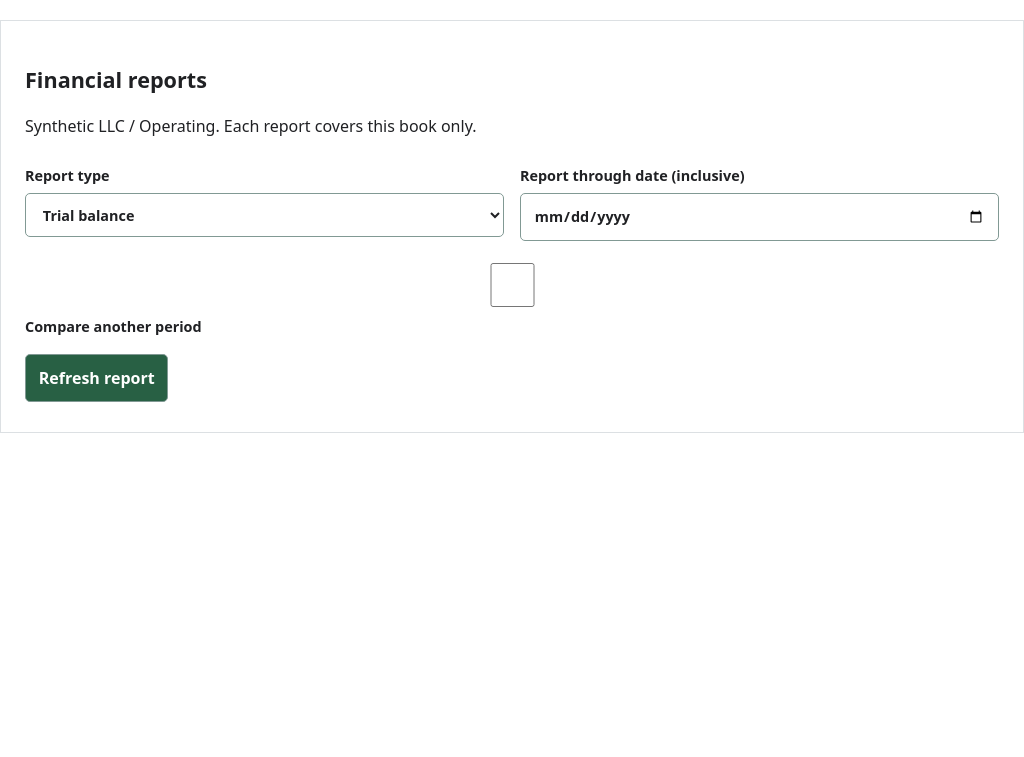
Test case: scoped report actions › ignores a late export when filters changed
Type "2026-01-31" into the date field labelled "Report through date (inclusive)". click: point(760, 217)
box: [520,193,999,240]
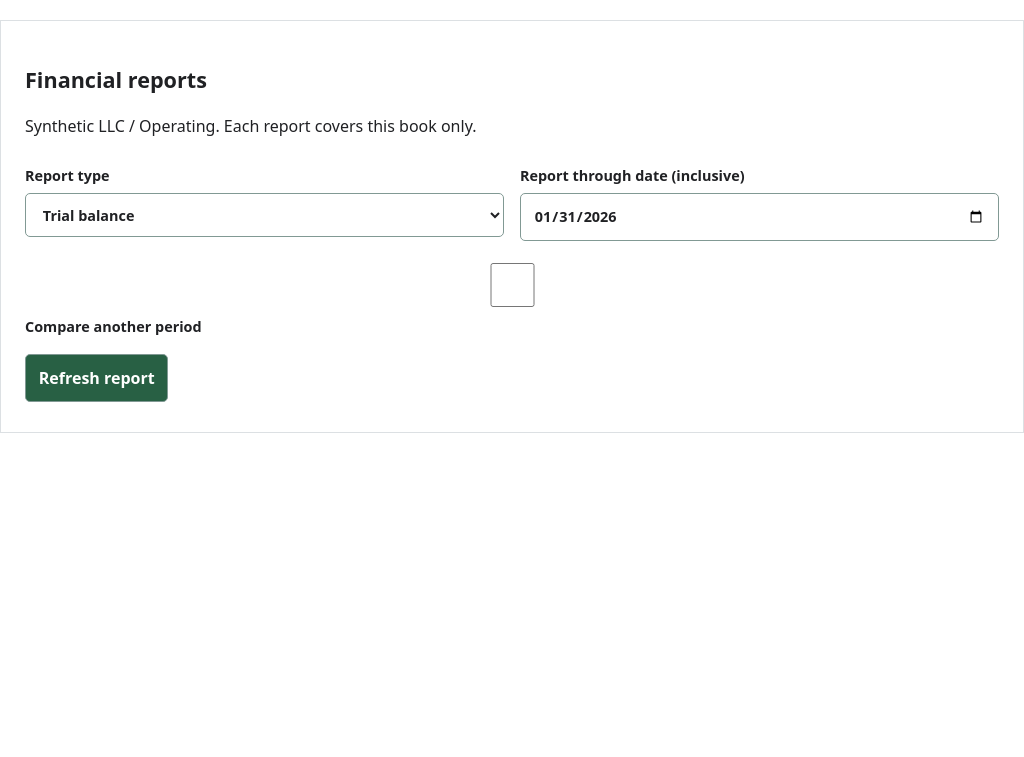
Click the button "Refresh report". click: point(97, 378)
box: [25,354,168,402]
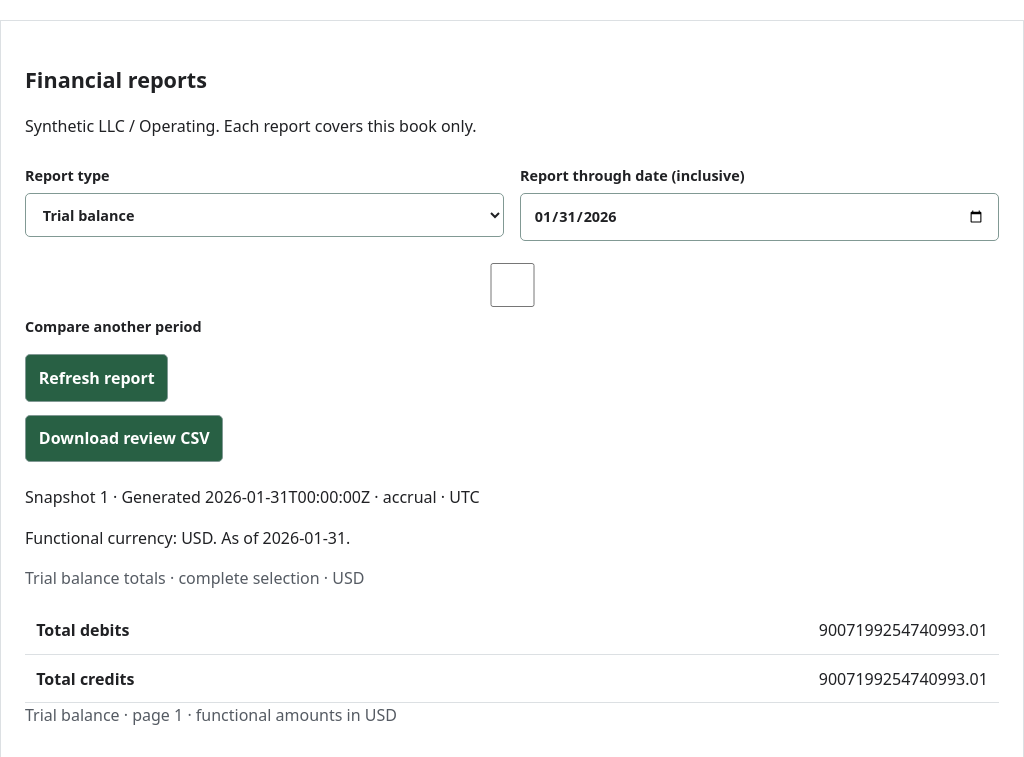
Check: the text "Snapshot 1 · Generated 2026-01-31T00:00:00Z · accrual · UTC" is shown, box [25,486,480,508]
Click the button "Download review CSV". click: point(124, 439)
box: [25,415,223,462]
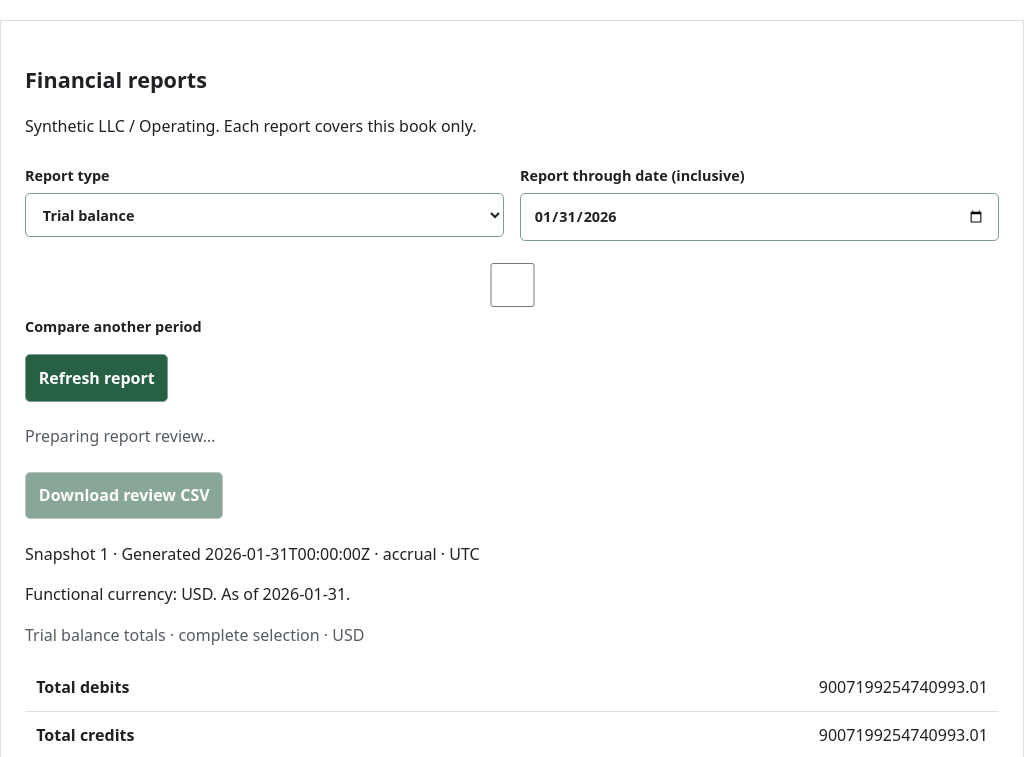
Type "2026-02-01" into the date field labelled "Report through date (inclusive)". click: point(760, 217)
box: [520,193,999,240]
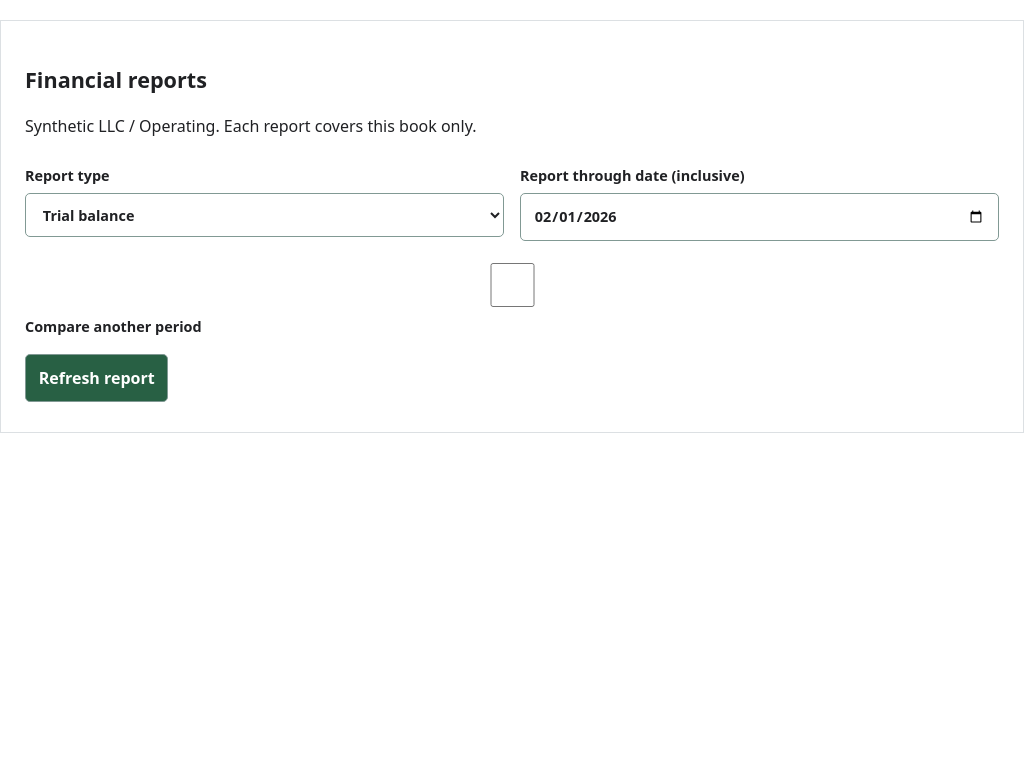
Check: the text "Preparing report" is gone
